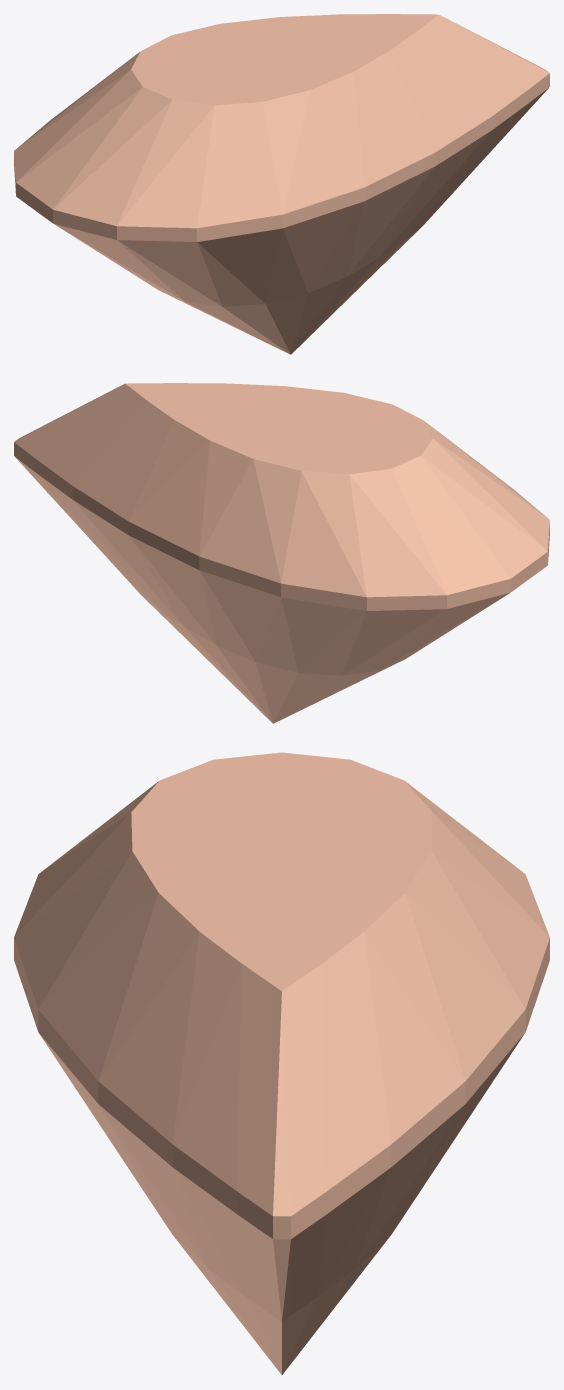
The model's file is imperialtopaz.glb.
3 views of the same model, one above another, from view 1: azimuth 30°, elevation 25°; view 2: azimuth 150°, elevation 25°; view 3: azimuth 270°, elevation 25° (orthographic). The views are drawn at different scales.
Parts seen in each view (by area): view 1: imperialtopaz; view 2: imperialtopaz; view 3: imperialtopaz.
Boxes of the visible parts, x1,y1,x2,y2 form: imperialtopaz: (14, 14, 549, 354); imperialtopaz: (14, 383, 549, 723); imperialtopaz: (14, 752, 549, 1374).
Bounding box in the file's own units: 0.25 × 0.1418 × 0.1368.
